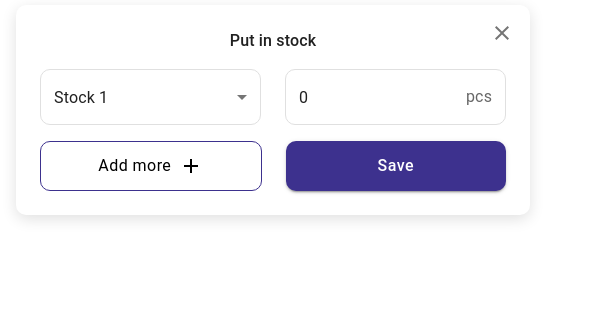
it: PutInStockPopup › adds a new row when "Add more" button is clicked
Find and click the "Add more" button
Click the button "Add more" at x=151, y=166, box [40,141,262,191]
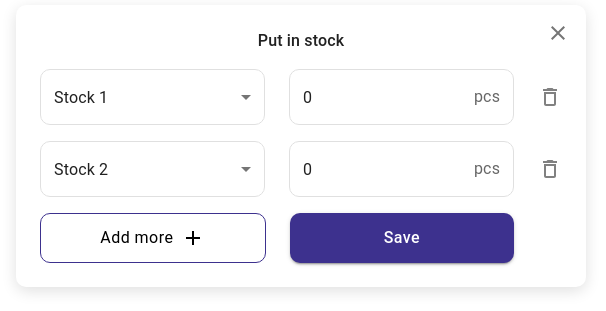
Check: the dropdown "Stock 2" is shown, box [54,160,108,178]
